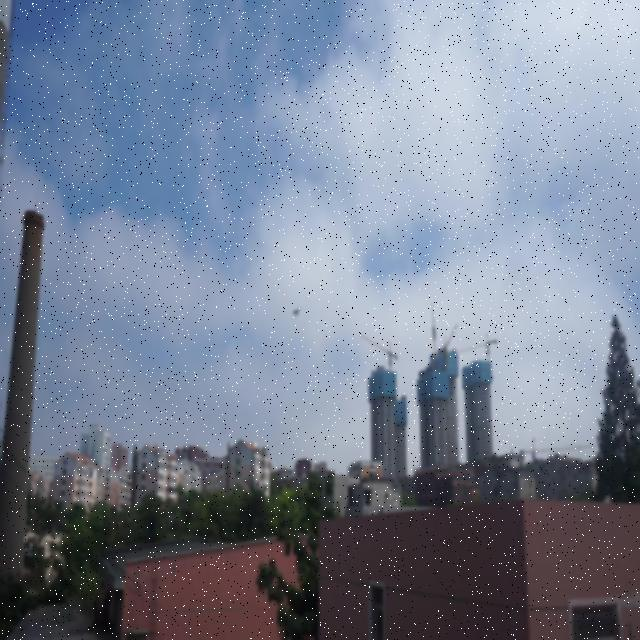UAV: (291, 307, 302, 317)
